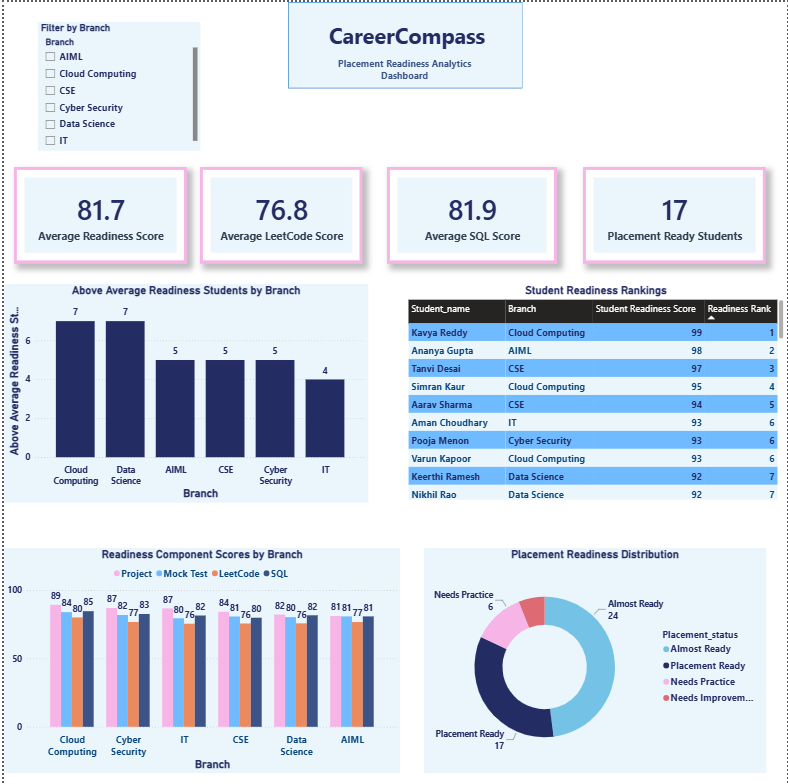

The page's visual inventory and layout, read from the dashboard file:
{"tool":"powerbi","page":{"name":"Placement Readiness Analytics Dashboard","canvas":[1350,1350],"ordinal":3},"visuals":[{"type":"shape","box":[488.9,0,404.4,148.9],"z":0},{"type":"cardVisual","fields":{"Data":["Avg(career_compass placement_readiness.Overall_score)"]},"box":[16.7,285,298.3,166.7],"z":1000},{"type":"cardVisual","fields":{"Data":["Avg(career_compass placement_readiness.SQL_score)"]},"box":[660,285,293.3,166.7],"z":2000},{"type":"cardVisual","fields":{"Data":["Avg(career_compass placement_readiness.Leetcode_score)"]},"box":[338.3,285,280,166.7],"z":3000},{"type":"cardVisual","fields":{"Data":["LeetCode Difficulty.Placement Ready Students"]},"box":[998.3,285,315,166.7],"z":4000},{"type":"textbox","box":[555.6,28.3,362.6,144.4],"z":5000},{"type":"textbox","box":[533.3,89.9,316.2,105.1],"z":6000},{"type":"slicer","title":"Filter by Branch","fields":{"Values":["career_compass students.Branch"]},"box":[58.3,35,280,221.7],"z":7000},{"type":"clusteredColumnChart","title":"Above Average Readiness Students by Branch","fields":{"Category":["career_compass students.Branch"],"Y":["LeetCode Difficulty.Above Average Readiness Students"]},"box":[0,486.7,628.3,376.7],"z":8000},{"type":"donutChart","title":"Placement Readiness Distribution","fields":{"Category":["career_compass placement_readiness.Placement_status"],"Y":["CountNonNull(career_compass students.Student_id)"]},"box":[723.3,941.7,590,388.3],"z":9000},{"type":"clusteredColumnChart","title":"Readiness Component Scores by Branch","fields":{"Y":["LeetCode Difficulty.Avg Project Score","LeetCode Difficulty.Avg Mock Test Score","LeetCode Difficulty.Avg LeetCode Score","LeetCode Difficulty.Avg SQL Score"],"Category":["career_compass students.Branch"]},"box":[0,941.7,683.3,388.3],"z":10000},{"type":"tableEx","title":"Student Readiness Rankings","fields":{"Values":["career_compass students.Student_name","career_compass students.Branch","LeetCode Difficulty.Student Readiness Score","LeetCode Difficulty.Readiness Rank"]},"box":[691.7,486.7,658.3,376.7],"z":11000}]}

Visuals, with their boxes in screenshot pixels (x1, y1, x2, y2), scaled from the page's 1350x1350 canvas onto the 788x784 screenshot:
shape: [285, 0, 521, 86]
cardVisual - Avg(career_compass placement_readiness.Overall_score): [10, 166, 184, 262]
cardVisual - Avg(career_compass placement_readiness.SQL_score): [385, 166, 556, 262]
cardVisual - Avg(career_compass placement_readiness.Leetcode_score): [197, 166, 361, 262]
cardVisual - LeetCode Difficulty.Placement Ready Students: [583, 166, 767, 262]
textbox: [324, 16, 536, 100]
textbox: [311, 52, 496, 113]
"Filter by Branch" slicer: [34, 20, 197, 149]
"Above Average Readiness Students by Branch" clusteredColumnChart: [0, 283, 367, 501]
"Placement Readiness Distribution" donutChart: [422, 547, 767, 772]
"Readiness Component Scores by Branch" clusteredColumnChart: [0, 547, 399, 772]
"Student Readiness Rankings" tableEx: [404, 283, 787, 501]
